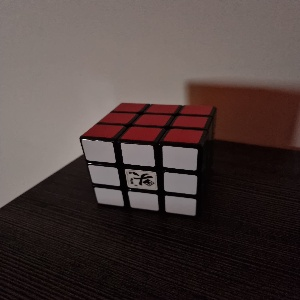cube: (79, 103, 218, 217)
